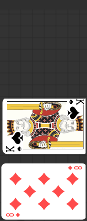8D: (4, 212, 21, 219)
